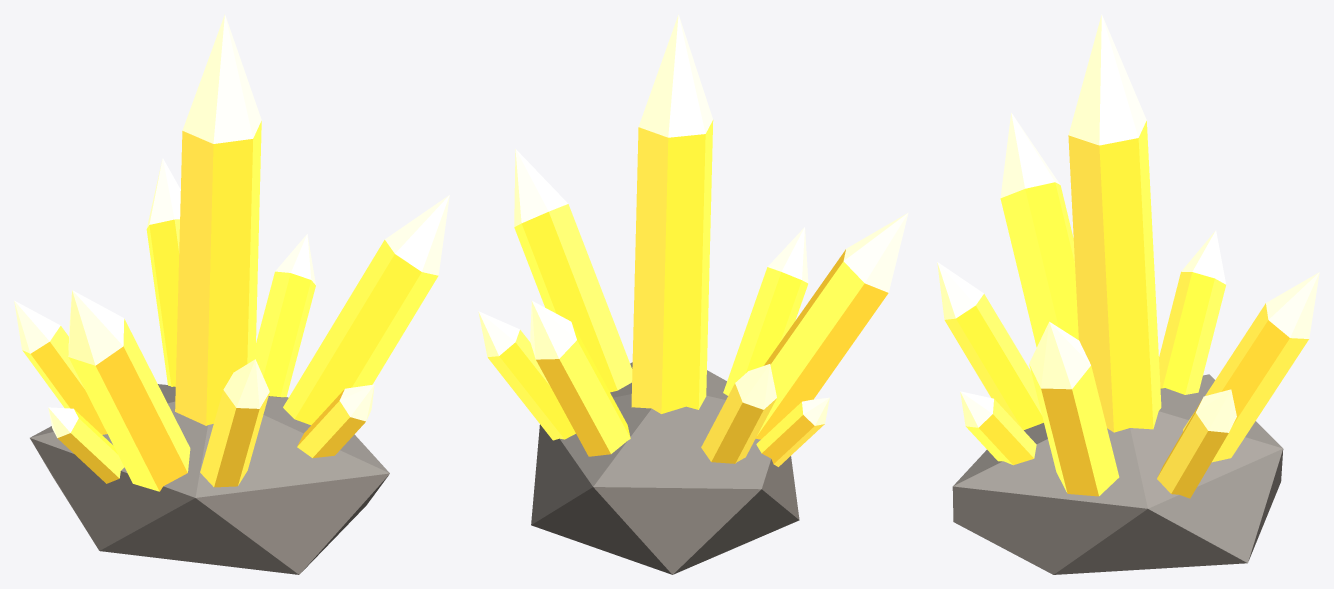
File: sulfur-crystal.glb
3 renders of one model, left to right at view 1: azimuth 30°, elevation 25°; view 2: azimuth 150°, elevation 25°; view 3: azimuth 270°, elevation 25°, orthographic. The views are drawn at different scales.
Parts seen in each view (by area): view 1: sulfur-crystal; view 2: sulfur-crystal; view 3: sulfur-crystal.
Boxes of the visible parts, x1,y1,x2,y2 form: sulfur-crystal: (14,14,449,574); sulfur-crystal: (478,14,908,574); sulfur-crystal: (937,14,1319,574).
Bounding box in the file's own units: 1.5 × 1.87 × 1.25.
